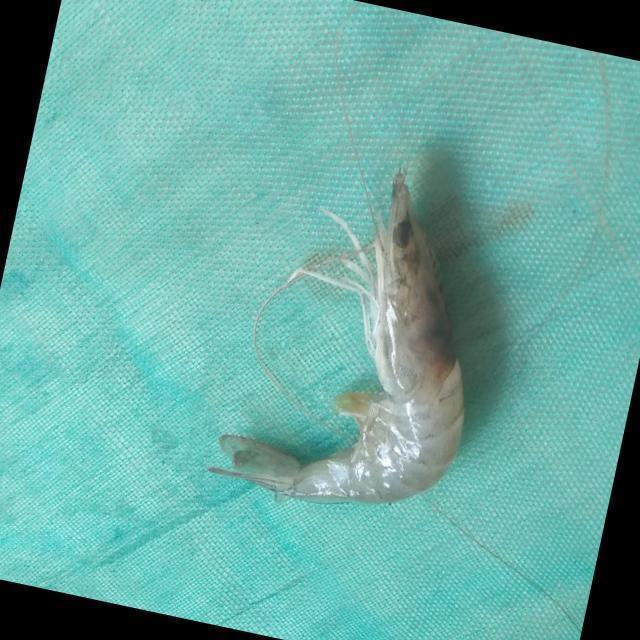shrimp: (209, 172, 464, 503)
